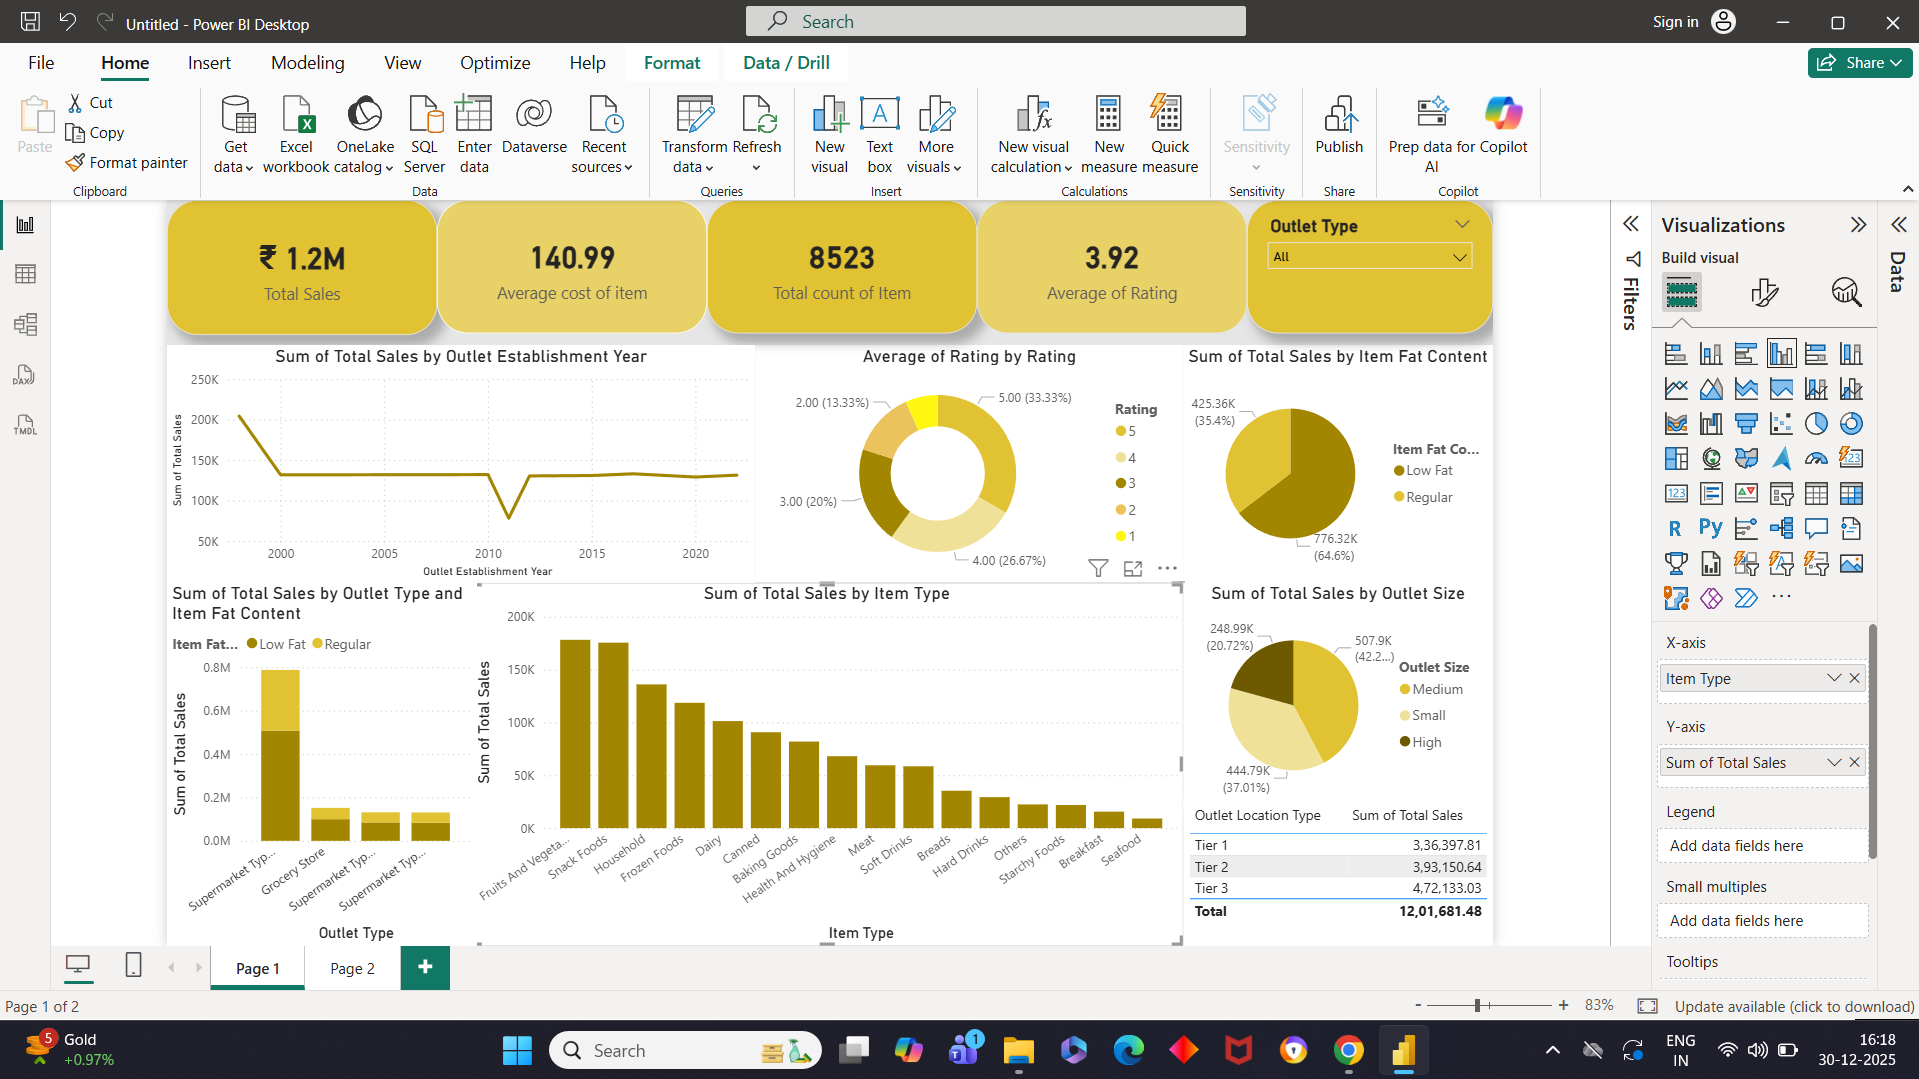

The page's visual inventory and layout, read from the dashboard file:
{"tool":"powerbi","page":{"name":"Page 1","canvas":[1280,720],"ordinal":0},"visuals":[{"type":"card","fields":{"Values":["Sum(BlinkIT Grocery Data.Total Sales)"]},"box":[0,0,260.6,130.3],"z":0},{"type":"donutChart","fields":{"Category":["BlinkIT Grocery Data.Rating"],"Y":["Avg(BlinkIT Grocery Data.Rating)"]},"box":[568.2,139.9,412.6,229.2],"z":1000},{"type":"card","fields":{"Values":["CountNonNull(BlinkIT Grocery Data.Item Type)"]},"box":[521.2,0,260.6,129.1],"z":2000},{"type":"pieChart","fields":{"Category":["BlinkIT Grocery Data.Item Fat Content"],"Y":["Sum(BlinkIT Grocery Data.Total Sales)"]},"box":[980.8,139.9,299.2,229.2],"z":3000},{"type":"clusteredColumnChart","fields":{"Y":["Sum(BlinkIT Grocery Data.Total Sales)"],"Category":["BlinkIT Grocery Data.Item Type"]},"box":[293.2,369.2,687.7,351.1],"z":4000},{"type":"lineChart","fields":{"Category":["BlinkIT Grocery Data.Outlet Establishment Year"],"Y":["Sum(BlinkIT Grocery Data.Total Sales)"]},"box":[0,139.9,568.2,229.2],"z":5000},{"type":"columnChart","fields":{"Y":["Sum(BlinkIT Grocery Data.Total Sales)"],"Category":["BlinkIT Grocery Data.Outlet Type"],"Series":["BlinkIT Grocery Data.Item Fat Content"]},"box":[0,369.2,299.2,351.1],"z":6000},{"type":"pieChart","fields":{"Category":["BlinkIT Grocery Data.Outlet Size"],"Y":["Sum(BlinkIT Grocery Data.Total Sales)"]},"box":[980.8,369.2,299.2,218.4],"z":7000},{"type":"tableEx","fields":{"Values":["BlinkIT Grocery Data.Outlet Location Type","Sum(BlinkIT Grocery Data.Total Sales)"]},"box":[981.1,577.7,299.1,142.7],"z":8000},{"type":"slicer","fields":{"Values":["BlinkIT Grocery Data.Outlet Type"]},"box":[1042.4,0,237.7,129.1],"z":9000},{"type":"card","fields":{"Values":["Avg(BlinkIT Grocery Data.Total Sales)"]},"box":[260.6,0,260.6,129.1],"z":10000},{"type":"card","fields":{"Values":["Avg(BlinkIT Grocery Data.Rating)"]},"box":[781.8,0,260.6,129.1],"z":11000}]}

Visuals, with their boxes on the page's 1280x720 design canvas (x1, y1, x2, y2). These are canvas units, not pixel positions in the 1919x1079 screenshot, which may show the page scaled, cropped or inside an application window:
card - Sum(BlinkIT Grocery Data.Total Sales): locate(0, 0, 261, 130)
donutChart - BlinkIT Grocery Data.Rating x Avg(BlinkIT Grocery Data.Rating): locate(568, 140, 981, 369)
card - CountNonNull(BlinkIT Grocery Data.Item Type): locate(521, 0, 782, 129)
pieChart - BlinkIT Grocery Data.Item Fat Content x Sum(BlinkIT Grocery Data.Total Sales): locate(981, 140, 1280, 369)
clusteredColumnChart - Sum(BlinkIT Grocery Data.Total Sales) x BlinkIT Grocery Data.Item Type: locate(293, 369, 981, 720)
lineChart - BlinkIT Grocery Data.Outlet Establishment Year x Sum(BlinkIT Grocery Data.Total Sales): locate(0, 140, 568, 369)
columnChart - Sum(BlinkIT Grocery Data.Total Sales) x BlinkIT Grocery Data.Outlet Type: locate(0, 369, 299, 720)
pieChart - BlinkIT Grocery Data.Outlet Size x Sum(BlinkIT Grocery Data.Total Sales): locate(981, 369, 1280, 588)
tableEx - BlinkIT Grocery Data.Outlet Location Type x Sum(BlinkIT Grocery Data.Total Sales): locate(981, 578, 1280, 720)
slicer - BlinkIT Grocery Data.Outlet Type: locate(1042, 0, 1280, 129)
card - Avg(BlinkIT Grocery Data.Total Sales): locate(261, 0, 521, 129)
card - Avg(BlinkIT Grocery Data.Rating): locate(782, 0, 1042, 129)
